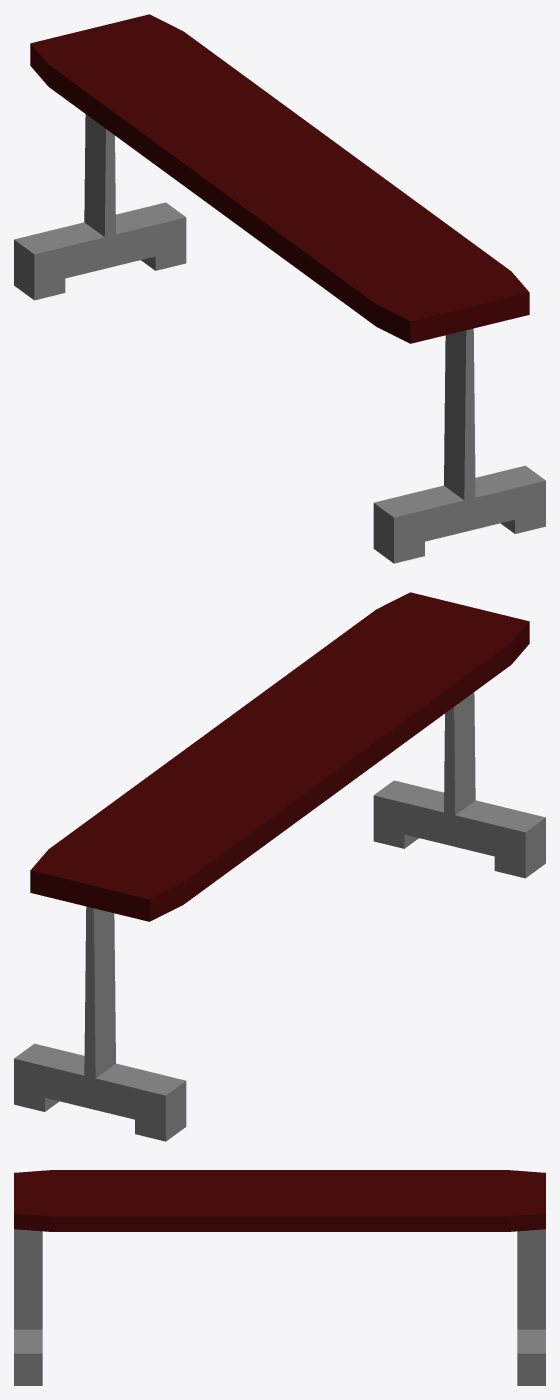
Rendered from GymBench.002.fbx.
3 renders of one model, top to bottom at view 1: azimuth 30°, elevation 25°; view 2: azimuth 150°, elevation 25°; view 3: azimuth 270°, elevation 25°, orthographic. The views are drawn at different scales.
Parts seen in each view (by area): view 1: GymBench.002; view 2: GymBench.002; view 3: GymBench.002.
Part boxes in pixels (bbox=[...]): GymBench.002: bbox=[14, 14, 545, 563]; GymBench.002: bbox=[14, 592, 545, 1141]; GymBench.002: bbox=[14, 1170, 545, 1385].
Bounding box in the file's own units: 26.1 × 39.08 × 113.
